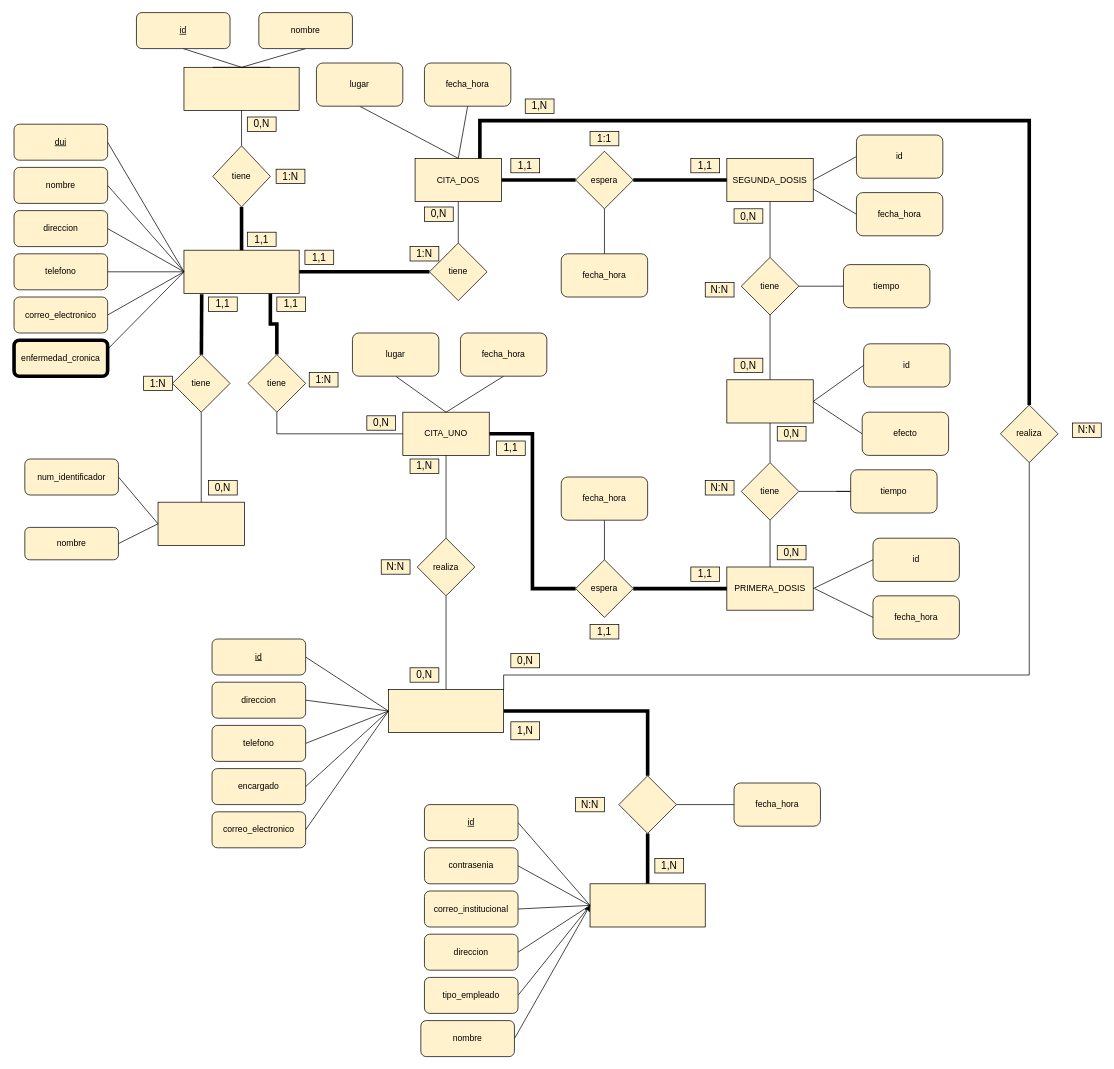
This 1114x1069 diagram has some shape labels left out. The shapes that lost their labels are listed below. From the top down, each one's centre as x and y in pixels, then its label:
At (241,89): "GRUPO_PRIORIDAD".
At (241,271): "CIUDADANO".
At (769,401): "efecto_secundario".
At (200,523): "INSTITUCIÓN".
At (446,711): "CABINA".
At (647,804): "registro".
At (647,905): "GESTOR".
